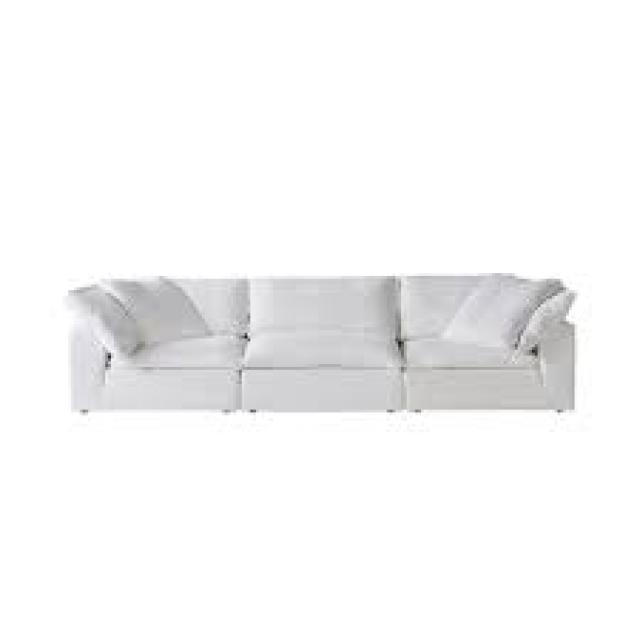Sofa: (56, 221, 599, 477)
